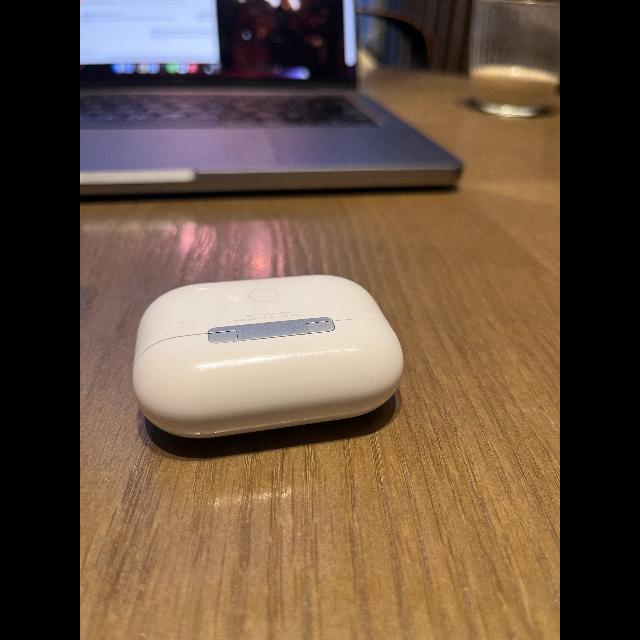AirPods Pro: (131, 271, 407, 465)
